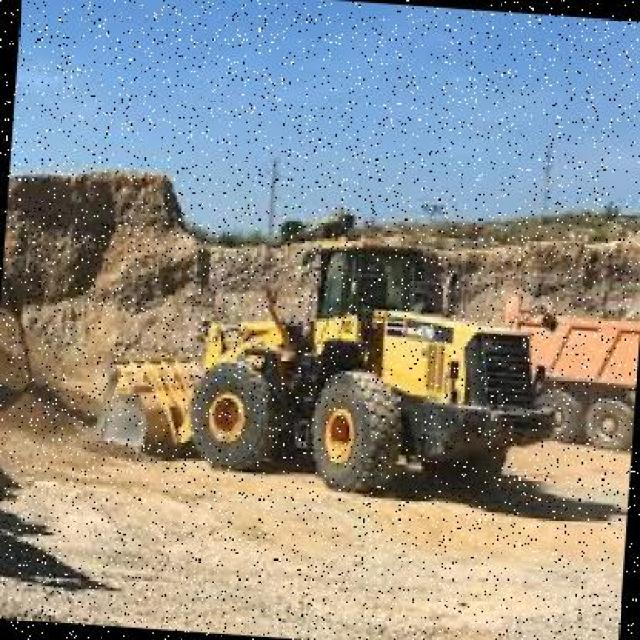buldozerpayloadergrader: (177, 221, 571, 519)
